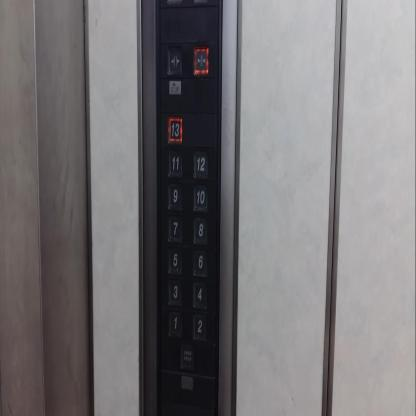1: (168, 308, 184, 338)
10: (192, 182, 209, 212)
11: (167, 146, 183, 176)
12: (192, 148, 208, 178)
13: (167, 114, 183, 144)
2: (192, 312, 208, 341)
3: (167, 276, 184, 306)
4: (192, 281, 208, 309)
5: (167, 246, 183, 276)
6: (192, 247, 208, 277)
7: (166, 212, 183, 242)
8: (192, 216, 208, 245)
9: (167, 180, 183, 210)
close: (192, 44, 210, 76)
open: (165, 44, 184, 78)
text_open: (180, 341, 196, 370)
